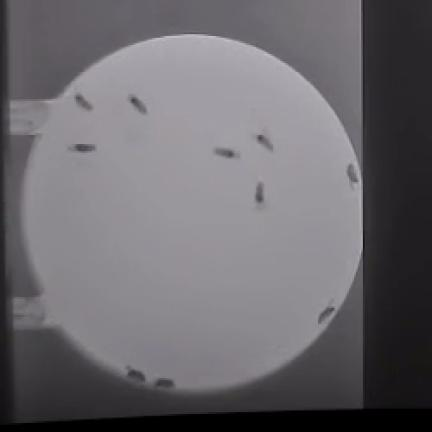fly: (128, 96, 146, 115), (256, 134, 274, 152), (318, 305, 335, 323), (127, 366, 145, 383), (75, 94, 93, 111), (215, 148, 240, 158), (348, 164, 359, 185), (70, 144, 96, 152), (255, 182, 264, 205), (154, 378, 174, 388)
